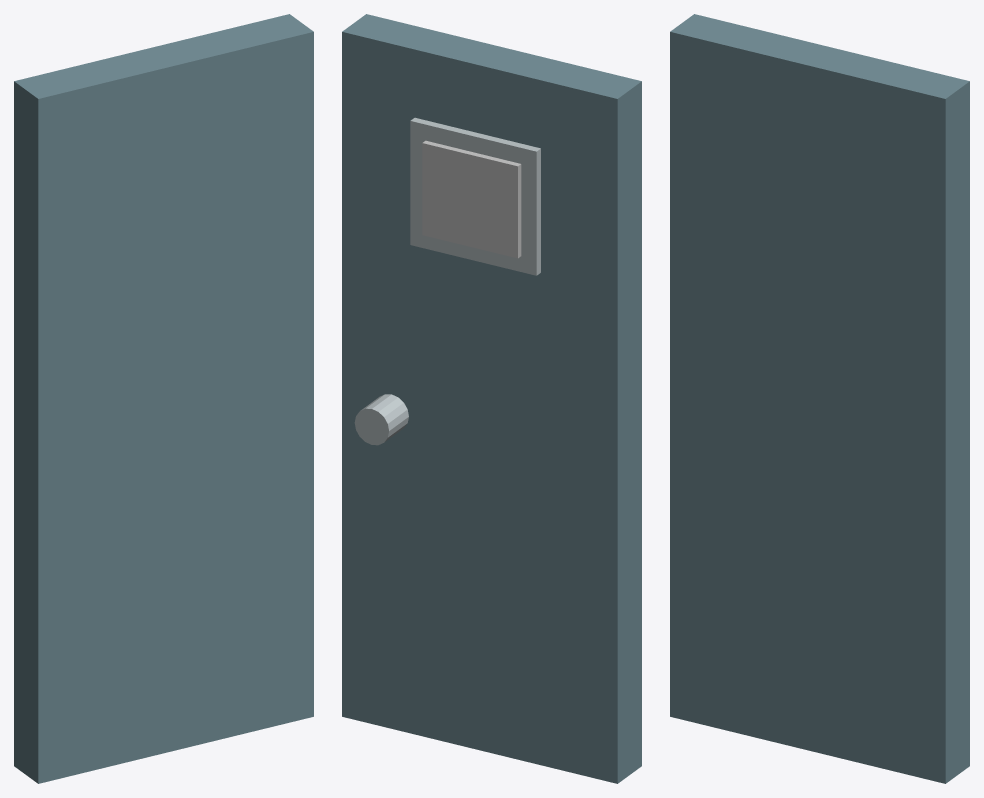
Rendered from body.obj.
3 renders of one model, left to right at view 1: azimuth 30°, elevation 25°; view 2: azimuth 150°, elevation 25°; view 3: azimuth 330°, elevation 25°, orthographic.
Size of the model in its own units: 0.72 by 1.71 by 0.2.
